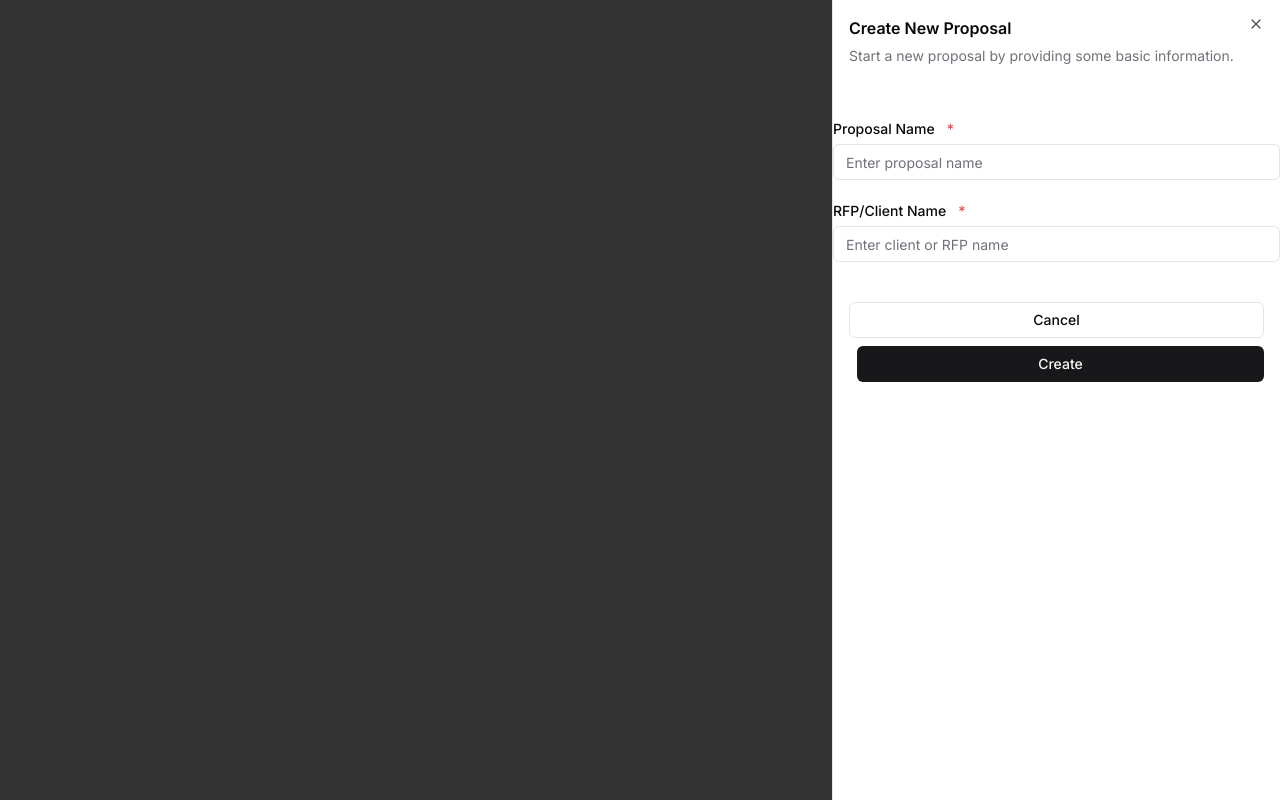
Test: NewProposalModal › validates required fields
Note: Try to submit without filling required fields
Step 1. Click the button "Create" → (1060, 364), box x1=857 y1=346 x2=1264 y2=382
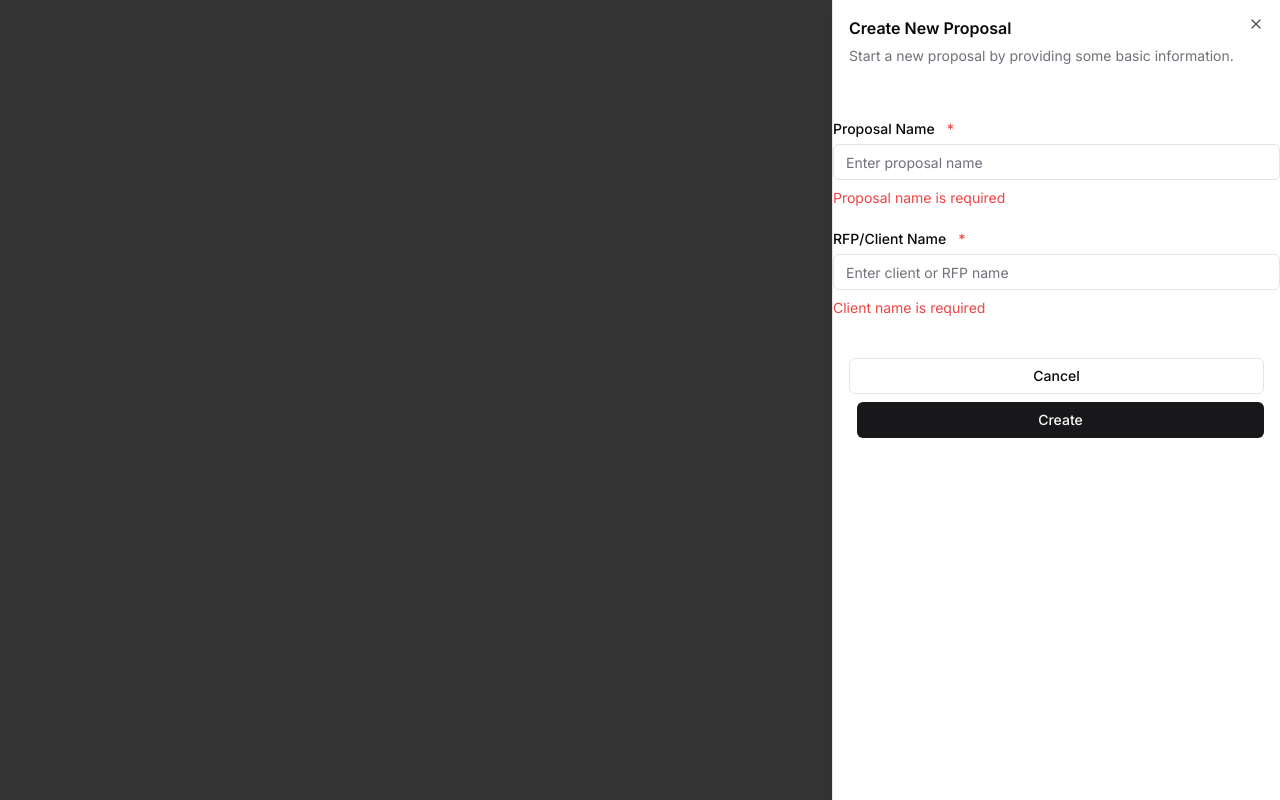
Expected: the text "Proposal name is required" is shown, x1=833 y1=189 x2=1005 y2=206
Expected: the text "Client name is required" is shown, x1=833 y1=299 x2=985 y2=316
